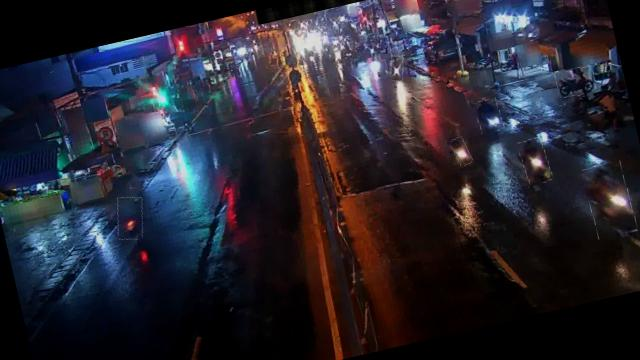Bike: (582, 161, 638, 240), (111, 194, 148, 242), (518, 136, 553, 186), (554, 64, 598, 100), (474, 98, 504, 135), (450, 136, 472, 168), (387, 54, 406, 82)
